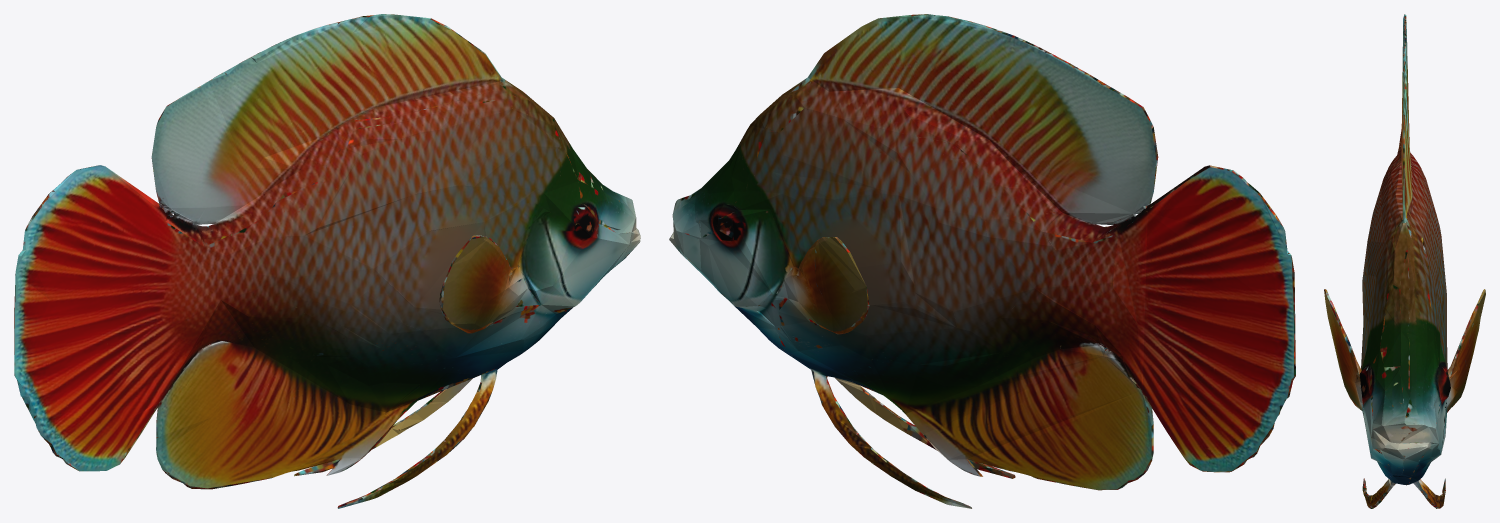
Rendered from fish_0004_smpl23_resized.glb.
3 renders of one model, left to right at view 1: azimuth 30°, elevation 25°; view 2: azimuth 150°, elevation 25°; view 3: azimuth 270°, elevation 25°, orthographic. The views are drawn at different scales.
Visible parts, largest first — view 1: world; view 2: world; view 3: world.
Boxes of the visible parts, x1,y1,x2,y2 form: world: (14,14,640,508); world: (669,14,1295,508); world: (1324,14,1485,508).
Bounding box in the file's own units: 1.99 × 1.43 × 0.4807.
Materials: 1 (1 with a texture image).
